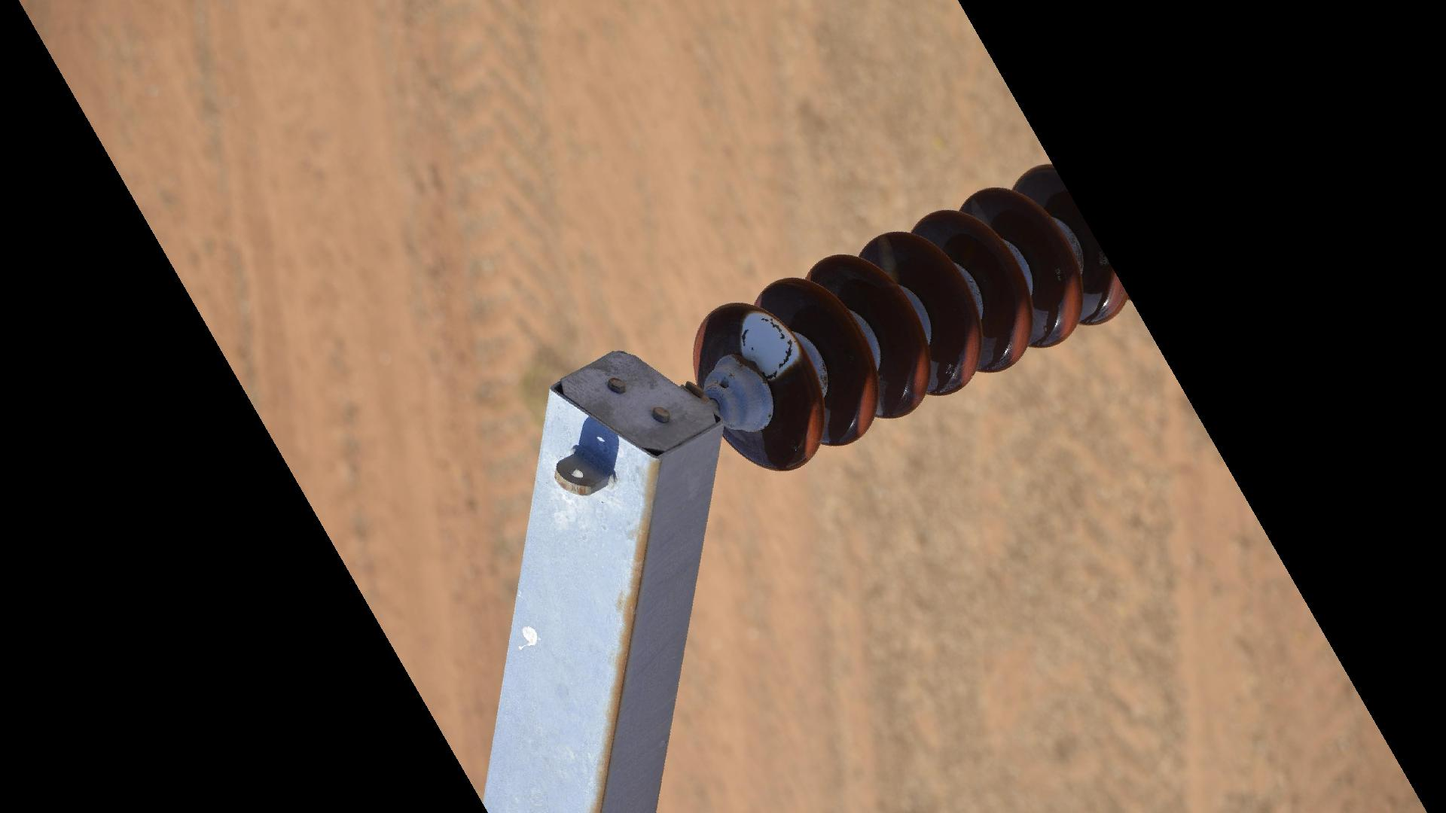insulator: (688, 161, 1139, 477)
insulator_flashover: (737, 306, 806, 383), (874, 232, 903, 283)
